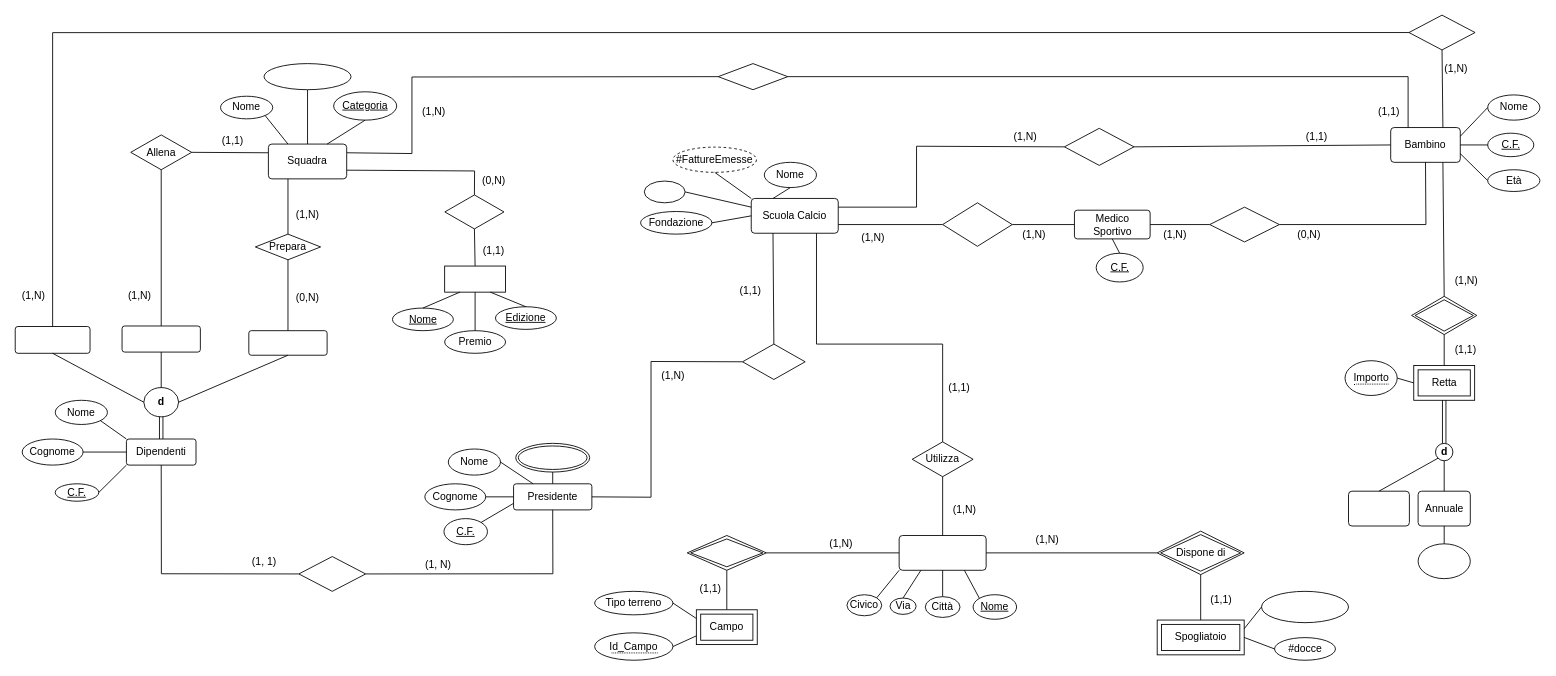
This 1556x676 diagram has some shape labels left out. Each missing label, with the box of its shape:
#Telefono: (515, 442, 590, 472)
Allenatore: (121, 325, 200, 352)
Centro Sportivo: (898, 535, 986, 570)
Collabora: (942, 202, 1012, 246)
Composto: (686, 535, 766, 570)
Cura: (1408, 14, 1475, 50)
Età bambini: (263, 63, 351, 90)
Fisioterapista: (14, 326, 90, 353)
Gioca: (717, 63, 788, 90)
Id Spogliatoio: (1261, 590, 1348, 623)
Iscritto: (1064, 127, 1134, 165)
Mensile: (1348, 490, 1409, 526)
P. IVA: (643, 180, 685, 203)
Paga: (1411, 295, 1477, 335)
Possiede: (742, 343, 805, 379)
Preparatore Atletico: (248, 330, 327, 355)
Sconto: (1417, 543, 1470, 579)
Stipendia: (298, 556, 366, 591)
Torneo: (444, 265, 506, 292)
Vince: (444, 194, 504, 229)
Visita: (1209, 206, 1279, 242)
